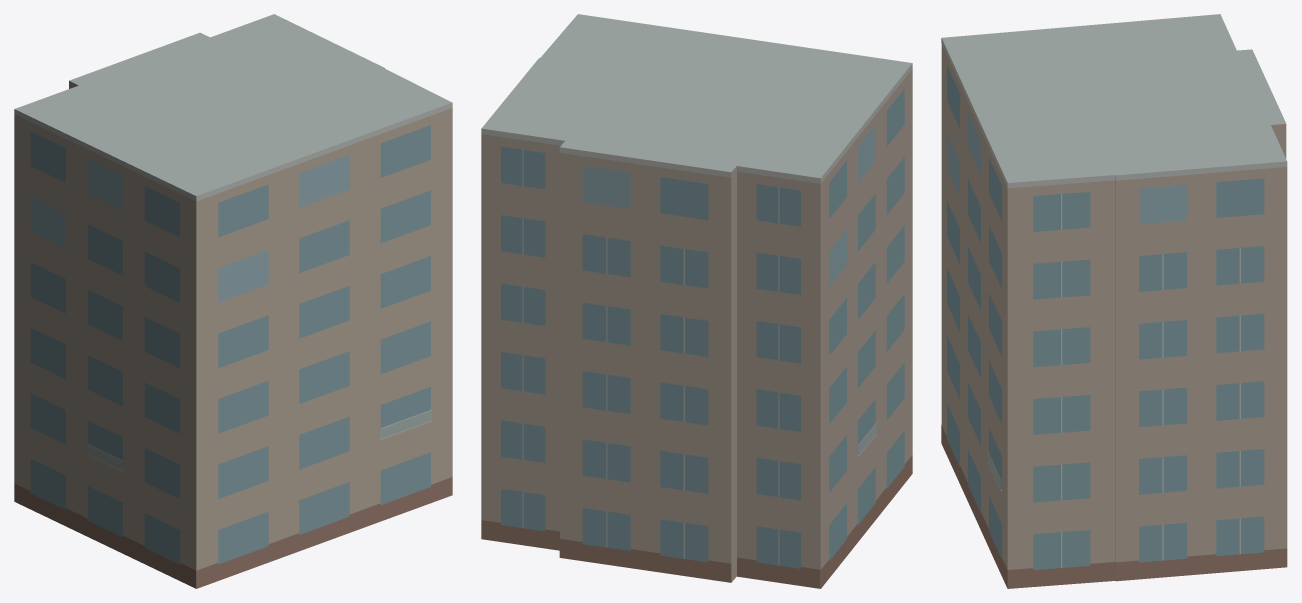
The model's file is survey-upis-32584645.glb.
3 renders of one model, left to right at view 1: azimuth 30°, elevation 25°; view 2: azimuth 150°, elevation 25°; view 3: azimuth 270°, elevation 25°, orthographic. The views are drawn at different scales.
Parts seen in each view (by area): view 1: survey-upis-32584645.tmp; view 2: survey-upis-32584645.tmp; view 3: survey-upis-32584645.tmp.
Part boxes in pixels (x1,y1,x2,y2): survey-upis-32584645.tmp: (14, 14, 452, 588); survey-upis-32584645.tmp: (481, 14, 912, 588); survey-upis-32584645.tmp: (941, 14, 1287, 588).
Size of the model in its own units: 16.36 by 18.3 by 14.14.
